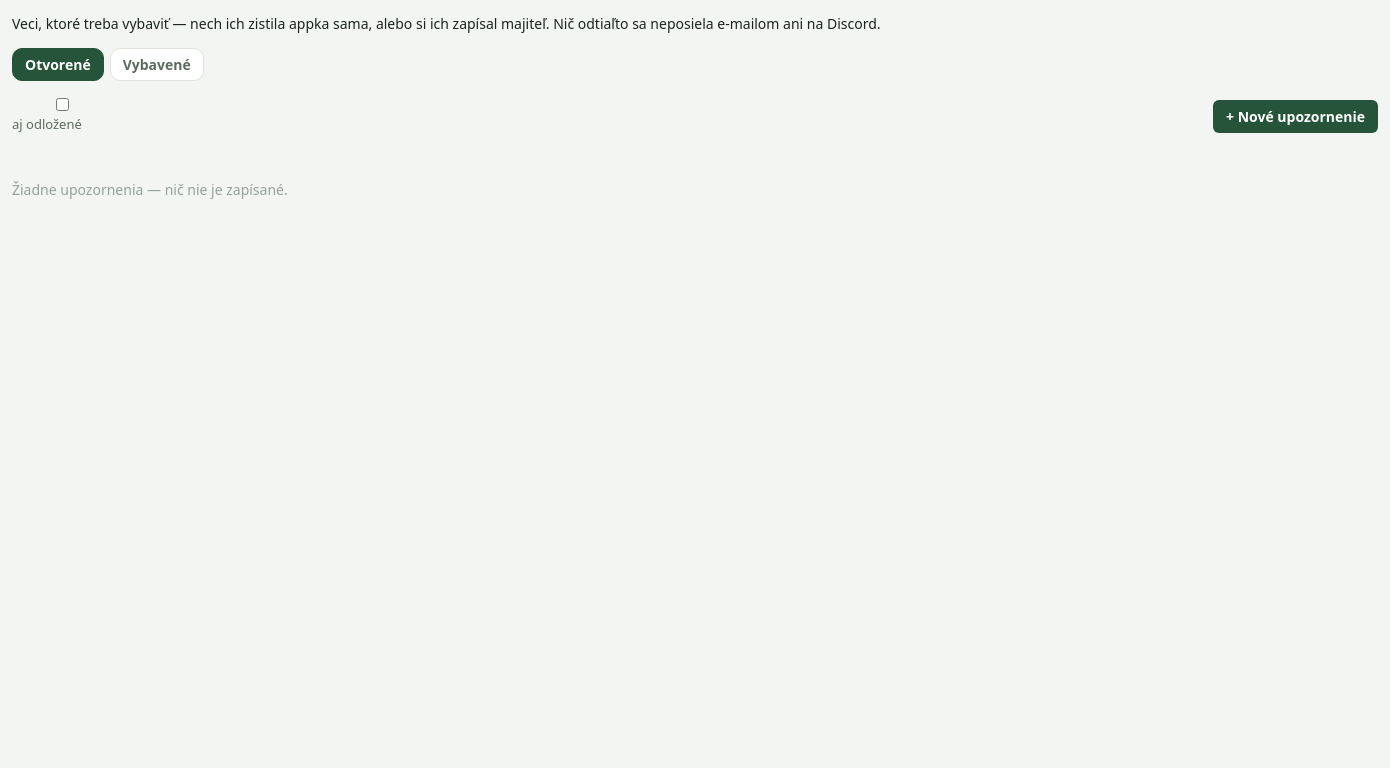
Test: '+ Nové upozornenie' otvorí formulár, uloženie zavolá createOwnNote a znova načíta zoznam
The width and height of the screenshot is (1390, 768).
Expected: the text "Žiadne upozornenia — nič nie je zapísané." is shown, top-left (12, 180), bottom-right (288, 199)
Click the button with test id "upozornenie-new": (1296, 116) top-left (1213, 100), bottom-right (1378, 133)
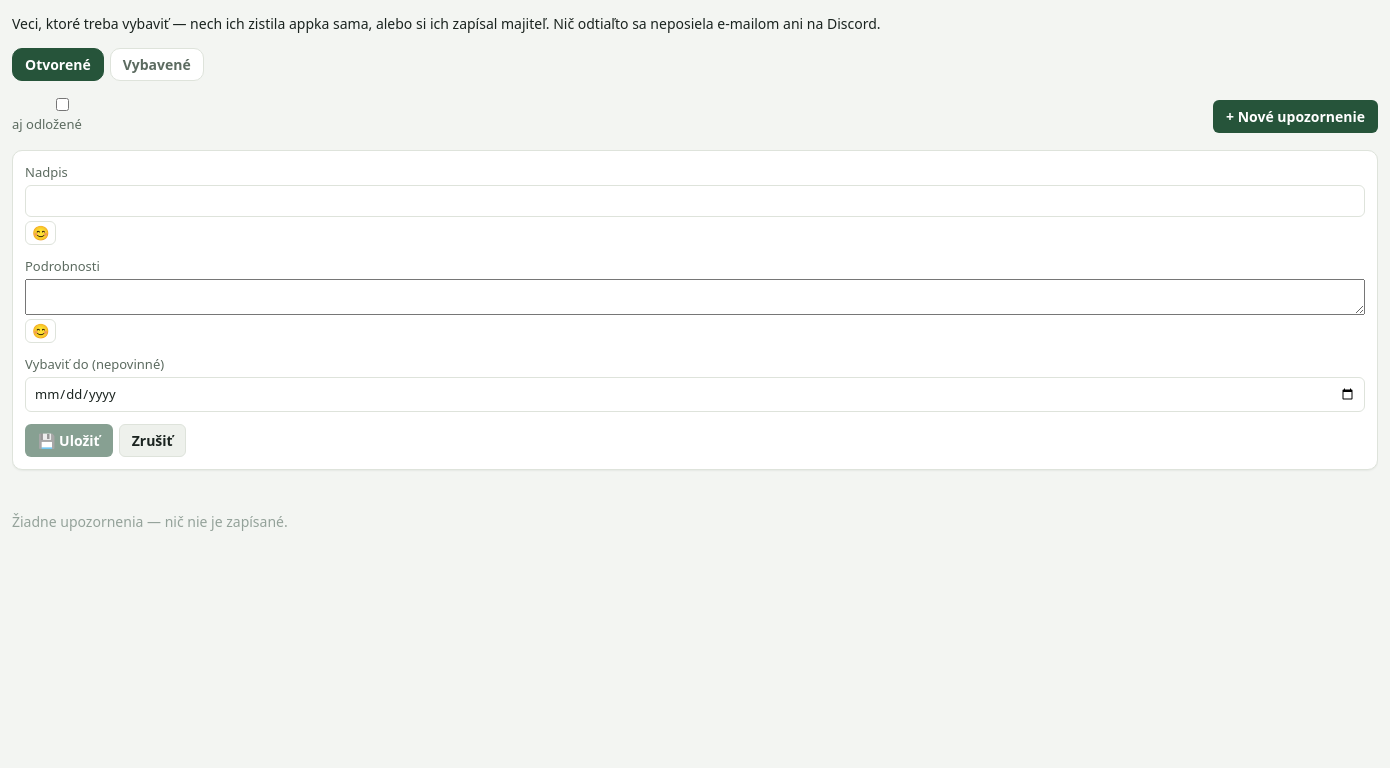
In the field with test id "upozornenie-form-title": (695, 201) top-left (25, 185), bottom-right (1365, 217), type "Schôdzka v stredu"
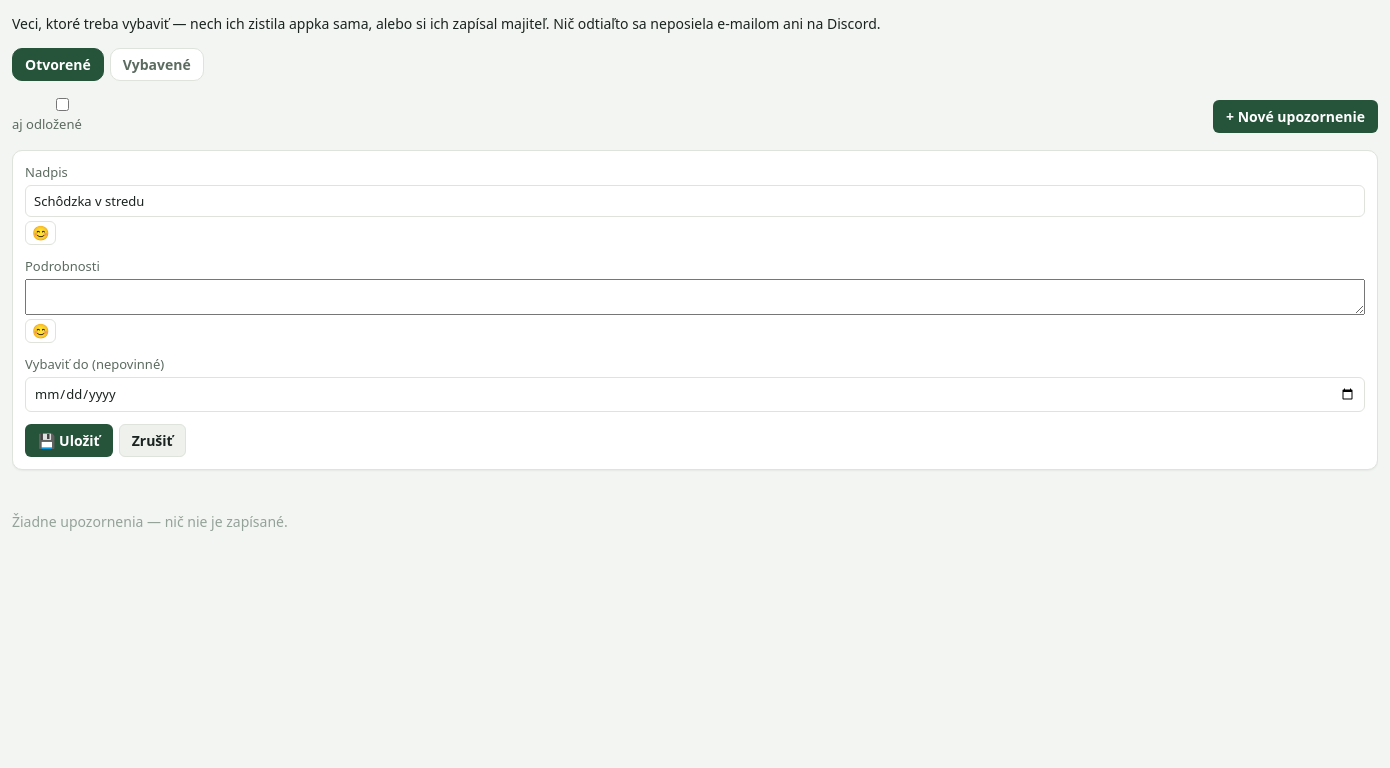
In the text box with test id "upozornenie-form-details": (695, 297) top-left (25, 279), bottom-right (1365, 315), type "o 10:00"
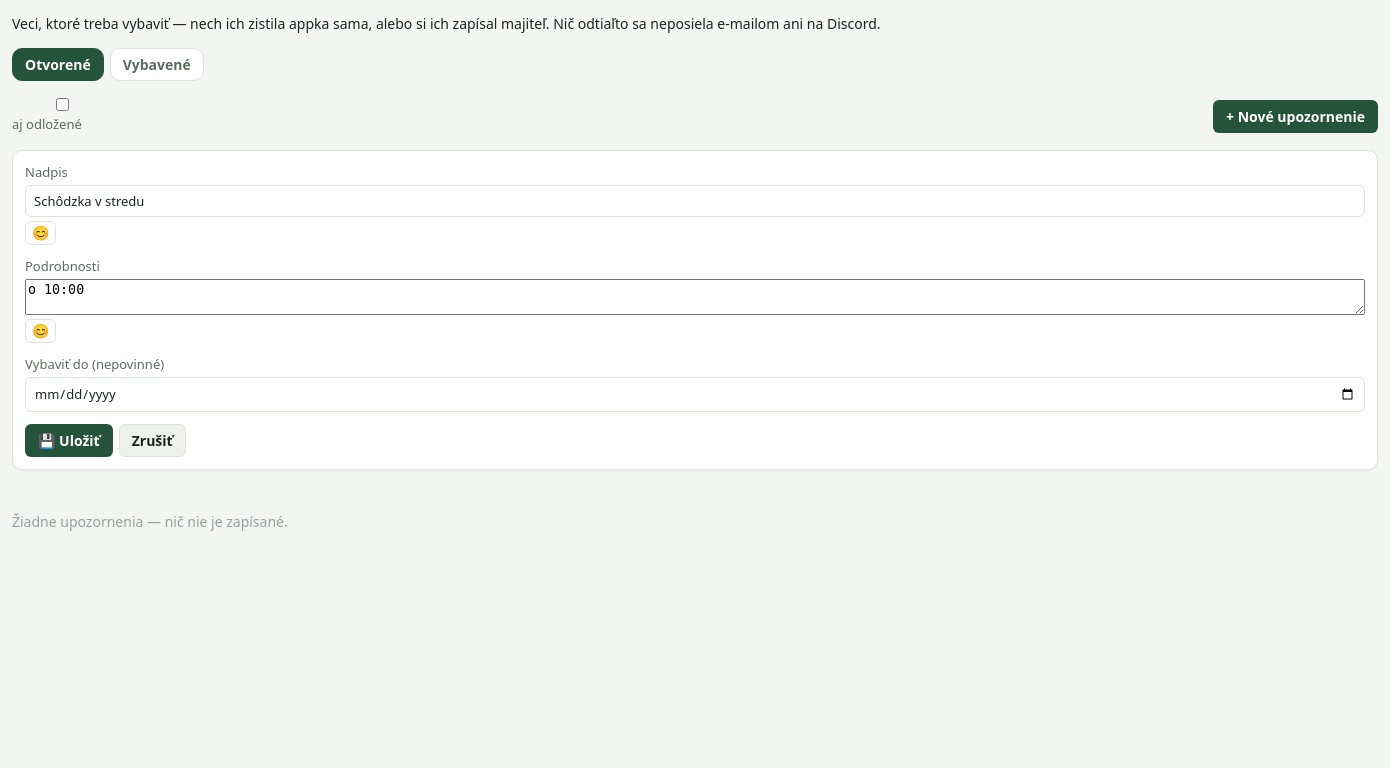
Click the button with test id "upozornenie-form-save": (69, 440) top-left (25, 424), bottom-right (113, 457)
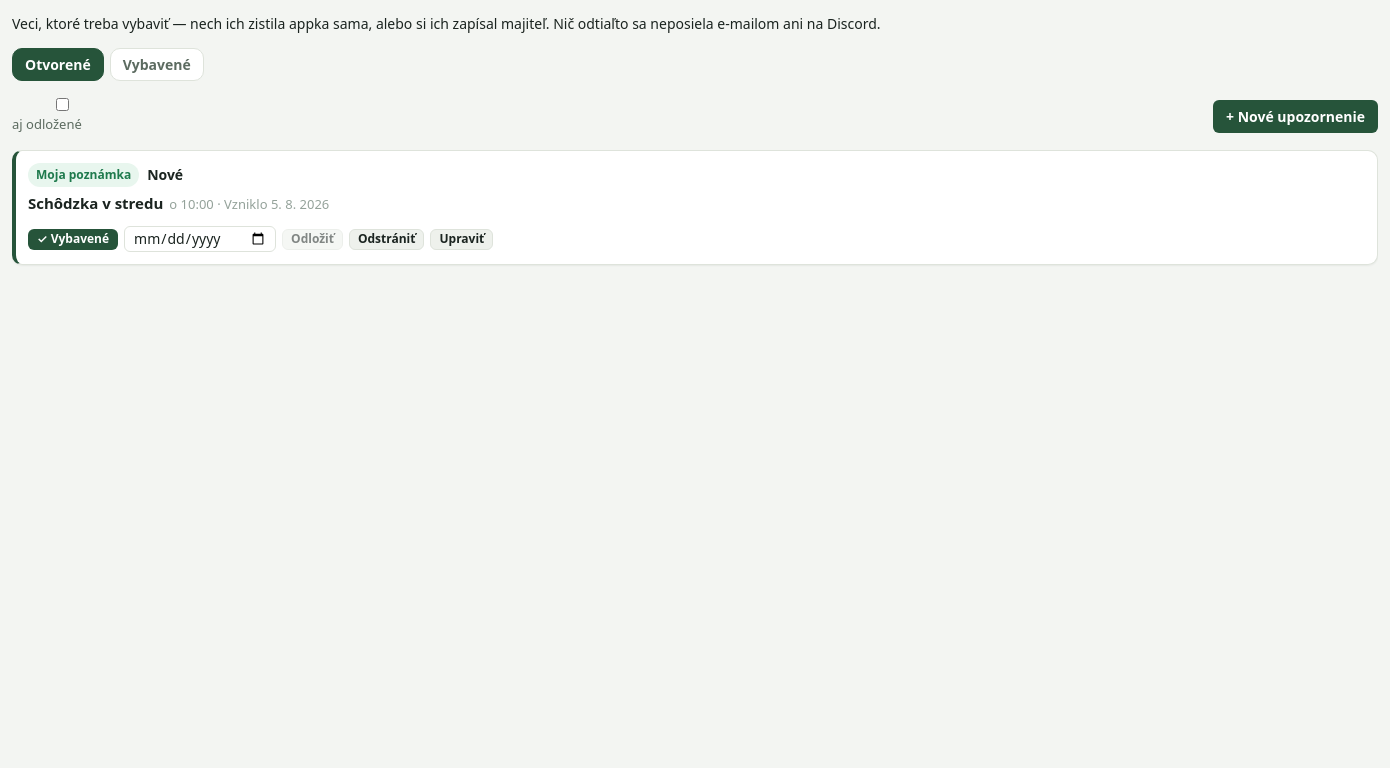
Now the element with test id "upozornenie-own-1" is shown, box top-left (12, 150), bottom-right (1378, 265)
